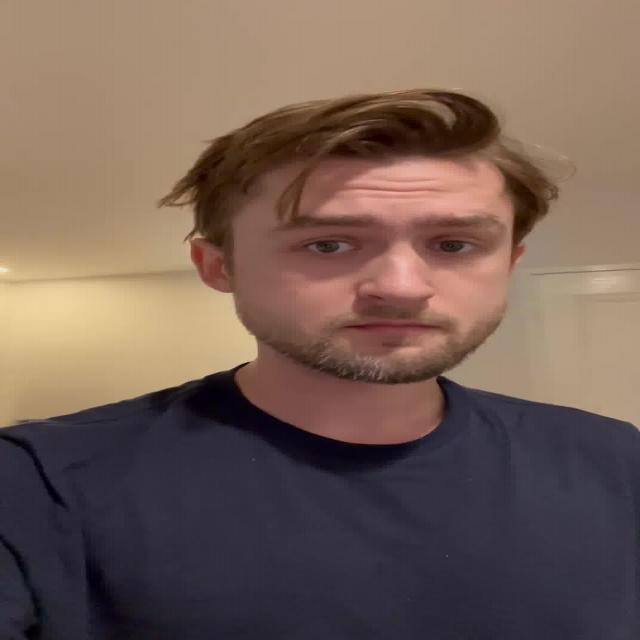earlobe: (188, 237, 235, 294), (508, 242, 526, 276)
